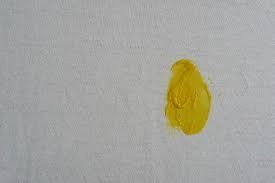mustard: (161, 57, 213, 138)
